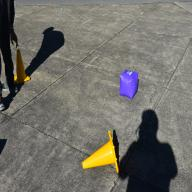cone: (82, 130, 120, 174), (15, 48, 30, 84)
cube: (118, 68, 138, 100)
